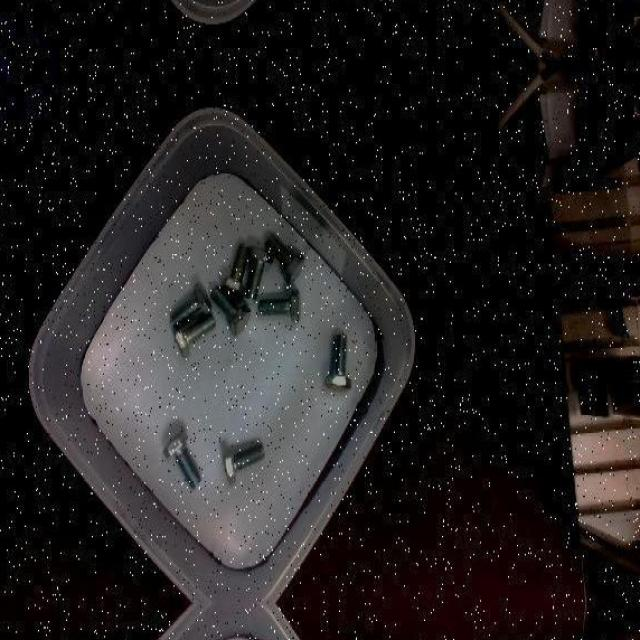screw: (164, 430, 202, 490), (265, 232, 306, 284), (209, 286, 251, 336), (172, 313, 216, 360), (170, 282, 213, 328), (224, 442, 265, 484), (220, 242, 250, 298), (246, 246, 275, 302), (260, 288, 302, 324), (326, 332, 352, 390)
